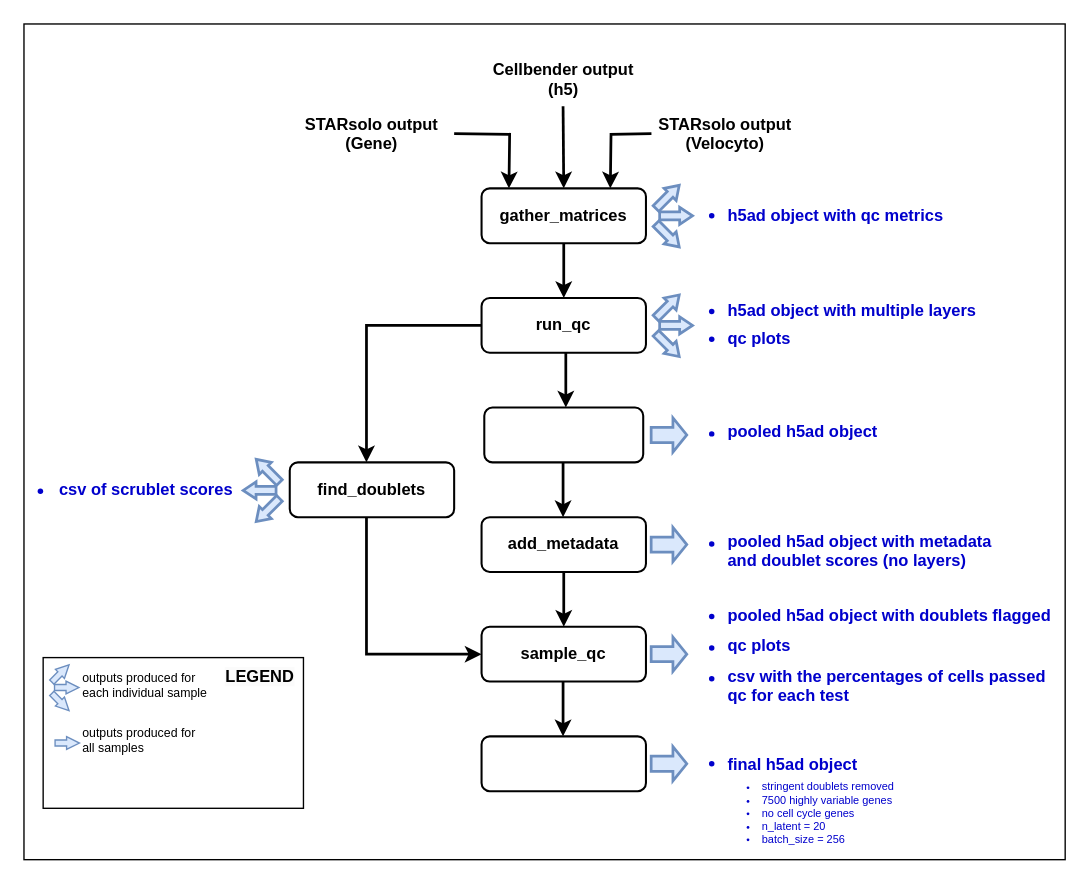
Some shapes in this 1092 by 884 pixel diagram are drawn without their labels. Each missing label, with the centre of its shape:
"integration" belongs at point (563, 763).
"pool_all" belongs at point (563, 434).
